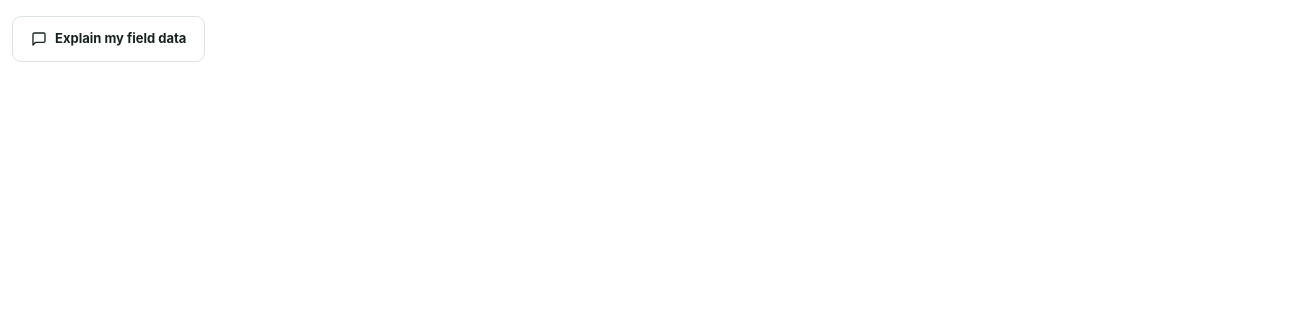
it: sends the selected period only after the explicit analytics action
Click the button "Explain my field data": point(109, 39) [12,16,205,62]
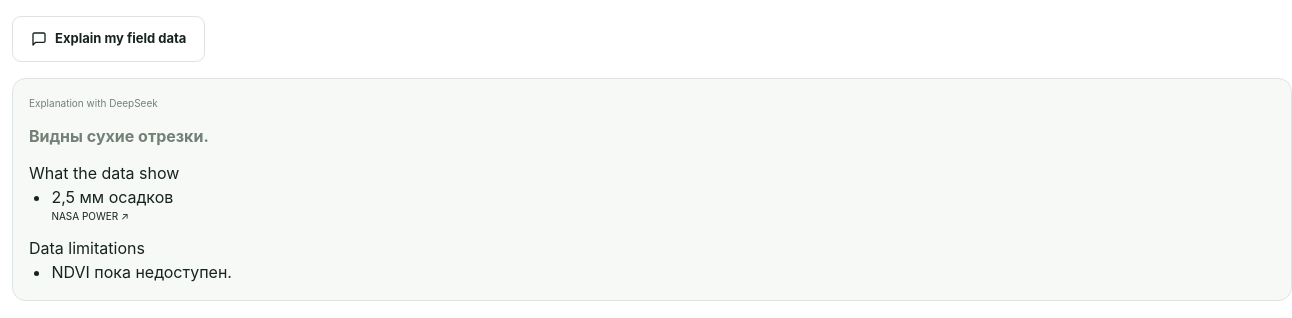
Expected: the text "NDVI пока недоступен." is shown, [51,262,232,282]
